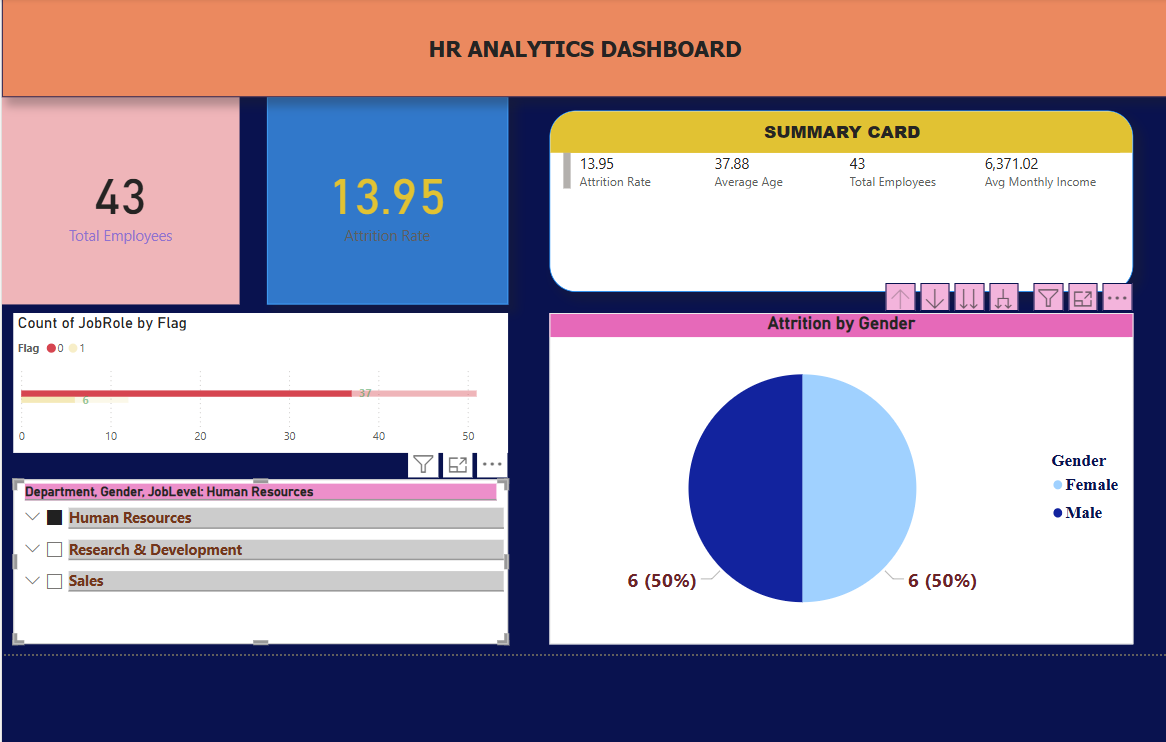

What the dashboard file says about the page in this screenshot:
{"tool":"powerbi","page":{"name":"Page 1","canvas":[1280,720],"ordinal":0},"visuals":[{"type":"card","fields":{"Values":["HR_Analytics.Attrition Rate"]},"box":[290.9,108.4,264.8,227.8],"z":0},{"type":"card","fields":{"Values":["HR_Analytics.Total Employees"]},"box":[0,108.4,260.7,227.8],"z":1},{"type":"textbox","box":[0,0,1280.3,108.4],"z":2},{"type":"multiRowCard","title":"SUMMARY CARD","fields":{"Values":["HR_Analytics.Attrition Rate","HR_Analytics.Average Age","HR_Analytics.Total Employees","HR_Analytics.Avg Monthly Income"]},"box":[601,123.5,640.8,199],"z":3},{"type":"pieChart","title":"Attrition by Gender","fields":{"Y":["Sum(HR_Analytics.Flag)"],"Category":["HR_Analytics.Gender","HR_Analytics.Department"]},"box":[601,345.8,640.8,363.6],"z":4},{"type":"clusteredBarChart","fields":{"Y":["CountNonNull(HR_Analytics.JobRole)"],"Series":["HR_Analytics.Flag"]},"box":[12.3,345.8,543.4,153.7],"z":5},{"type":"slicer","fields":{"Values":["HR_Analytics.Department","HR_Analytics.Gender","HR_Analytics.JobLevel"]},"box":[12.3,528.3,543.4,181.1],"z":6}]}

Visuals, with their boxes in screenshot pixels (x1, y1, x2, y2):
card - HR_Analytics.Attrition Rate: pyautogui.locateOnScreen(267, 97, 505, 302)
card - HR_Analytics.Total Employees: pyautogui.locateOnScreen(6, 97, 240, 302)
textbox: pyautogui.locateOnScreen(6, 0, 1156, 97)
"SUMMARY CARD" multiRowCard: pyautogui.locateOnScreen(546, 111, 1122, 290)
"Attrition by Gender" pieChart: pyautogui.locateOnScreen(546, 311, 1122, 637)
clusteredBarChart - CountNonNull(HR_Analytics.JobRole) x HR_Analytics.Flag: pyautogui.locateOnScreen(17, 311, 505, 449)
slicer - HR_Analytics.Department x HR_Analytics.Gender: pyautogui.locateOnScreen(17, 475, 505, 637)
